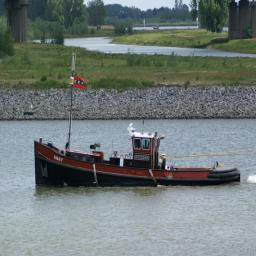tugboat: (34, 47, 245, 197)
